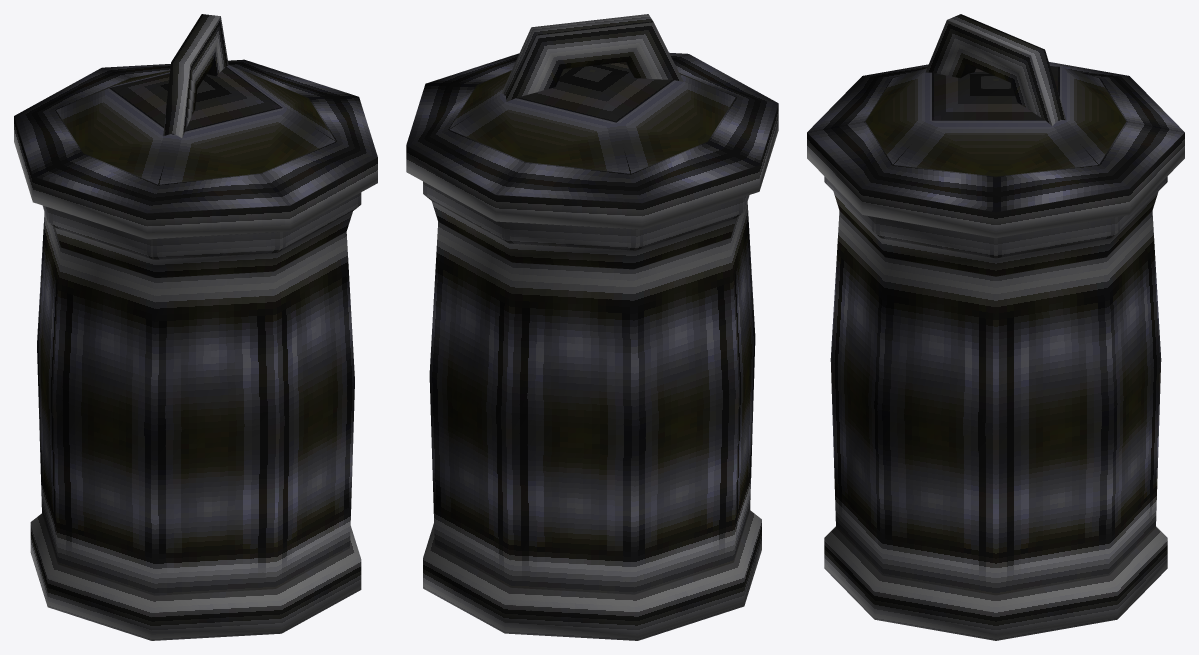
File: Metalic_Trash_Can.fbx
3 views of the same model, side by side, from view 1: azimuth 30°, elevation 25°; view 2: azimuth 150°, elevation 25°; view 3: azimuth 270°, elevation 25° (orthographic). The views are drawn at different scales.
Visible parts, largest first — view 1: Metalic_Trash_Can; view 2: Metalic_Trash_Can; view 3: Metalic_Trash_Can.
Part boxes in pixels (<box>): Metalic_Trash_Can: <box>14,14,377,640</box>; Metalic_Trash_Can: <box>406,14,778,640</box>; Metalic_Trash_Can: <box>807,14,1184,640</box>.
Bounding box in the file's own units: 76.86 × 120 × 76.86.
